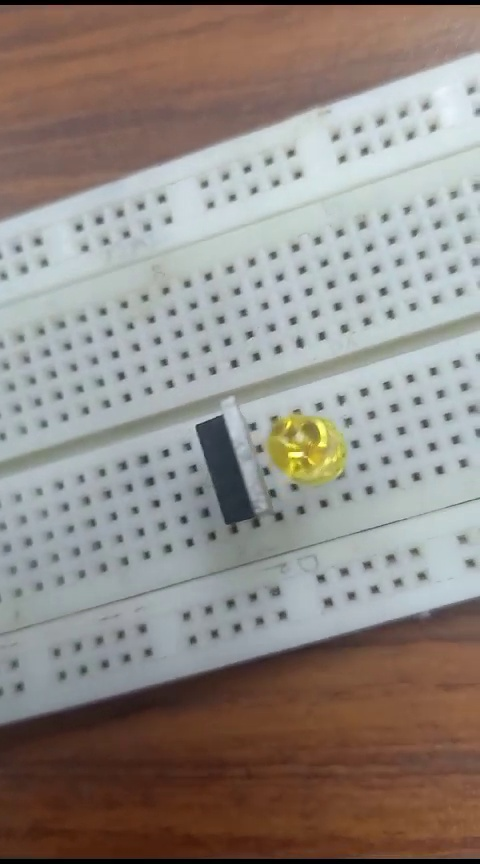LED: (270, 417, 347, 492)
voltage regulator: (179, 399, 276, 527)
